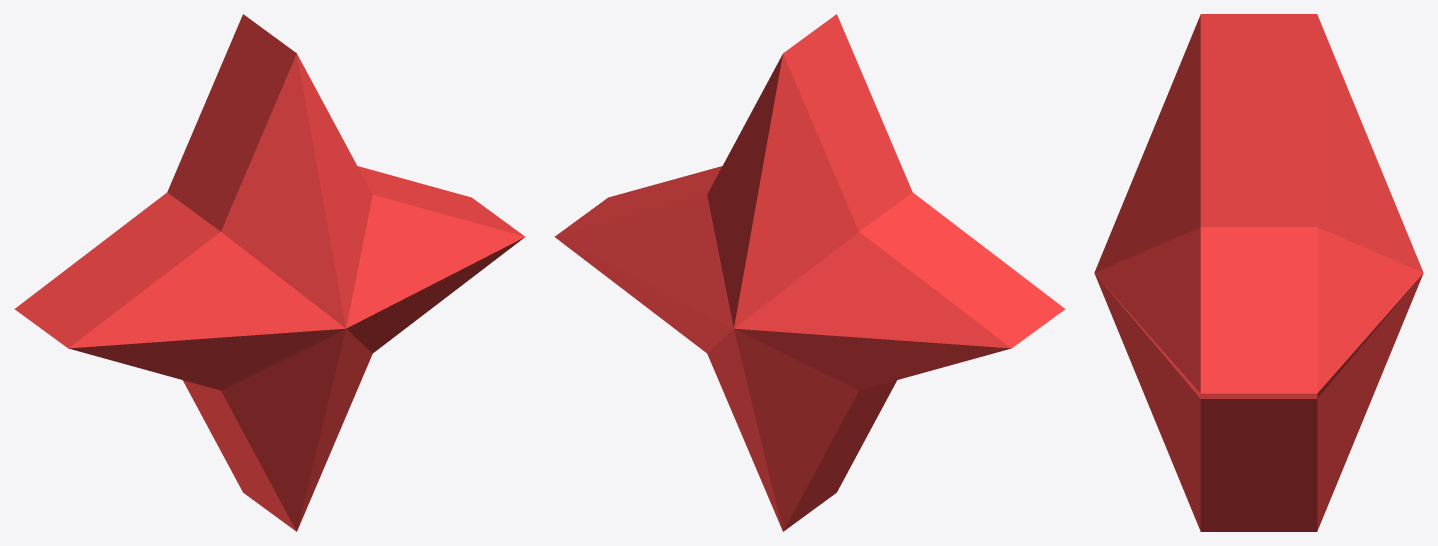
File: ui_life_big star.fbx
3 renders of one model, left to right at view 1: azimuth 30°, elevation 25°; view 2: azimuth 150°, elevation 25°; view 3: azimuth 270°, elevation 25°, orthographic. The views are drawn at different scales.
Parts seen in each view (by area): view 1: Circle_008; view 2: Circle_008; view 3: Circle_008.
Boxes of the visible parts, x1,y1,x2,y2 form: Circle_008: (14, 14, 525, 531); Circle_008: (554, 14, 1065, 531); Circle_008: (1094, 14, 1423, 531).
Size of the model in its own units: 600 by 600 by 346.
